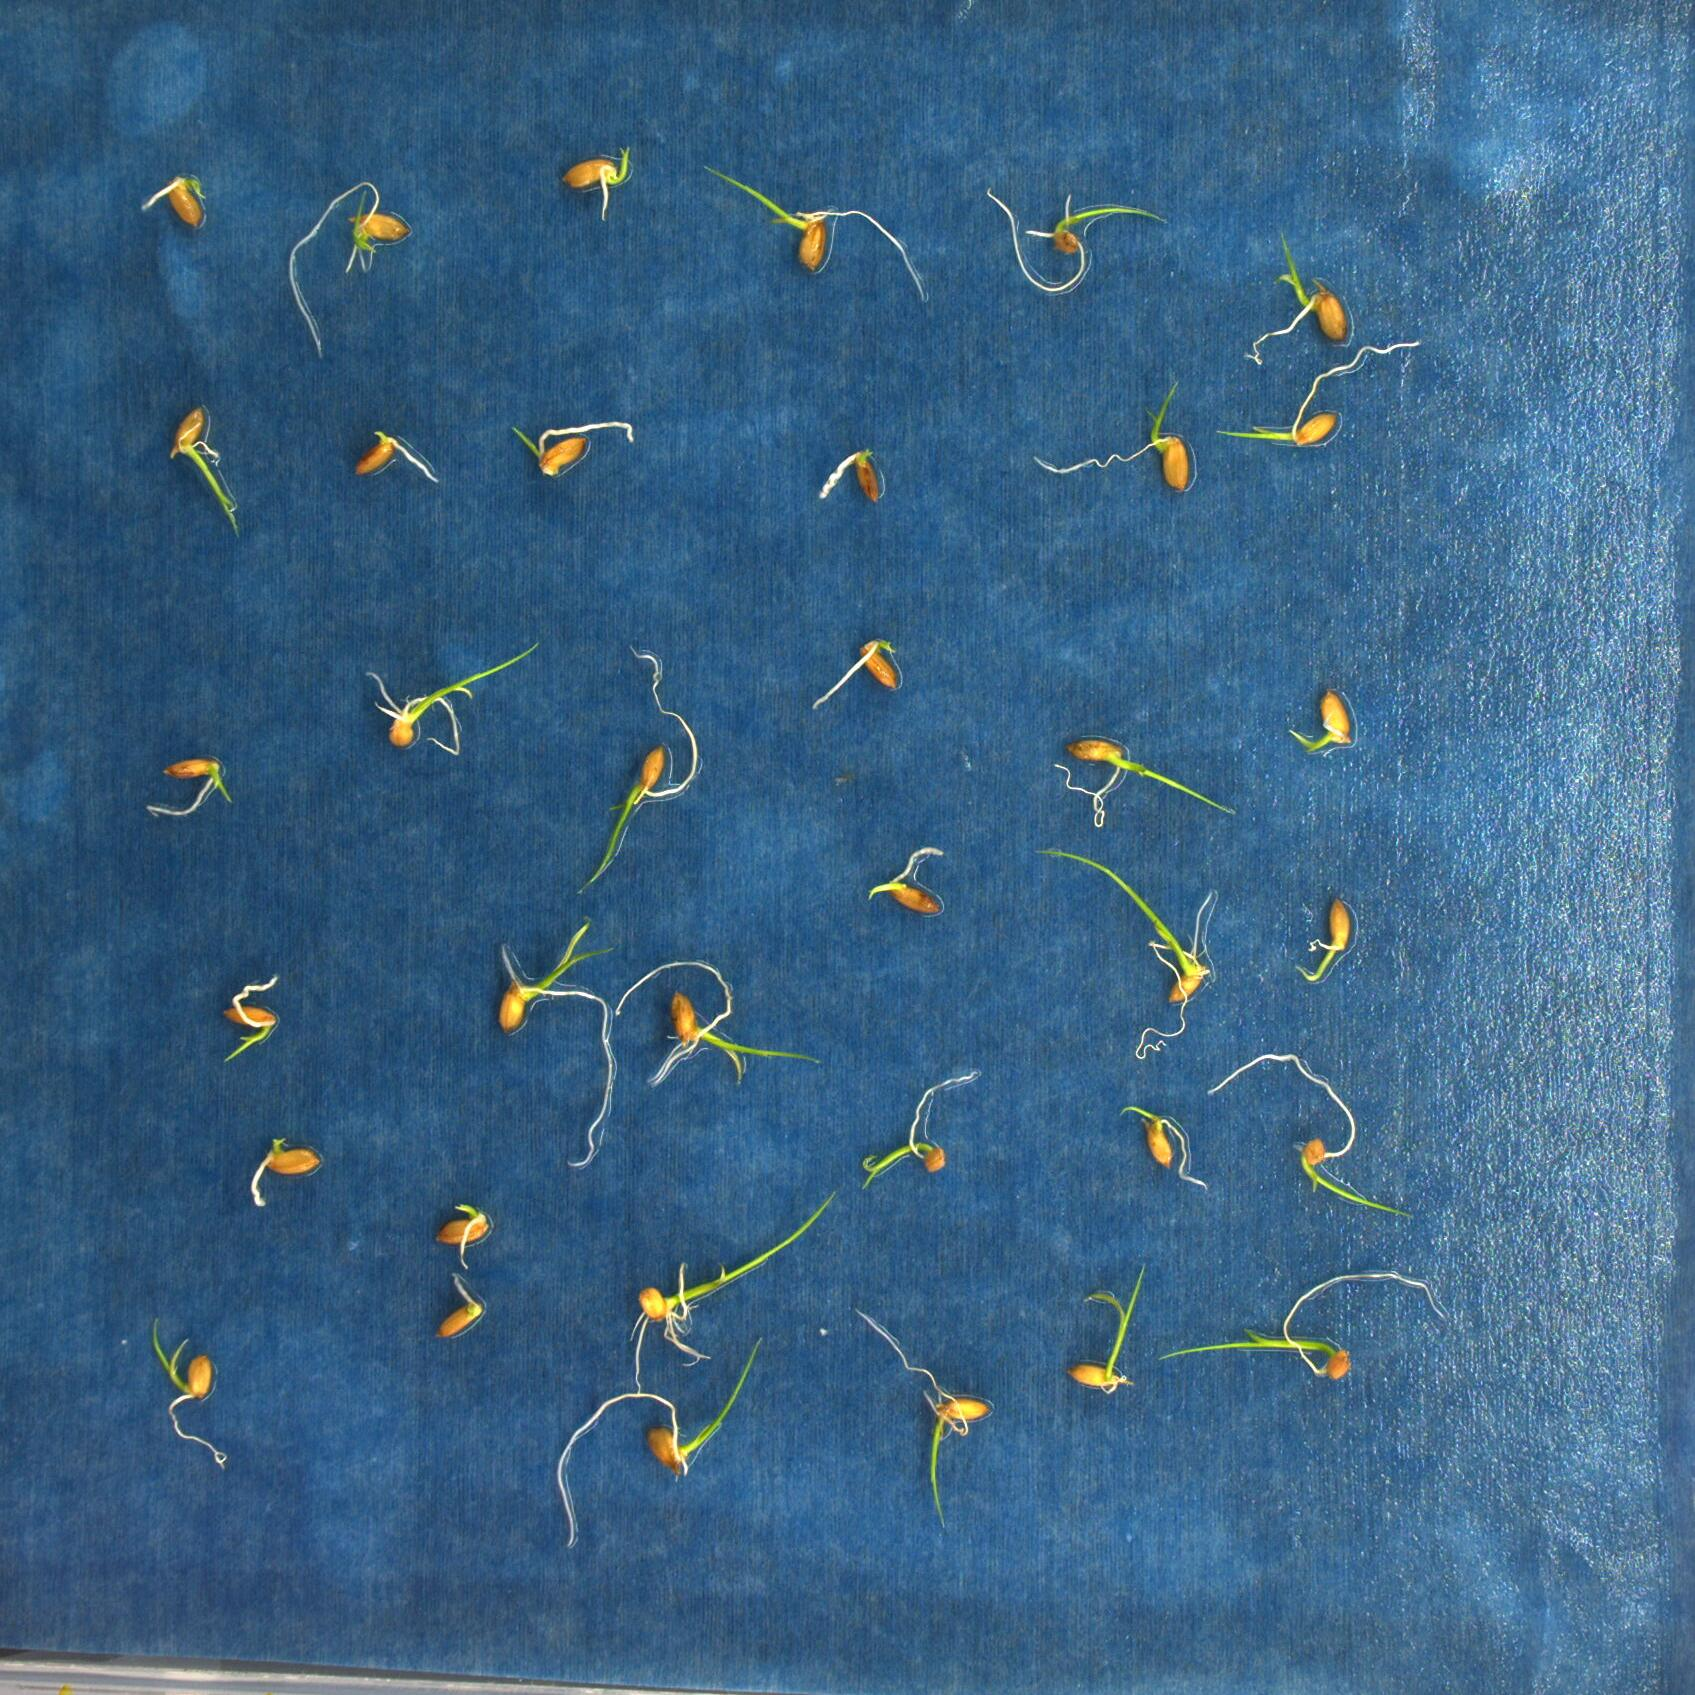not sprout: (812, 640, 899, 712), (251, 1135, 321, 1208), (352, 432, 441, 487), (820, 445, 882, 503), (435, 1273, 483, 1340)
sprout: (557, 1336, 765, 1546), (632, 1187, 837, 1395), (1035, 847, 1214, 1060), (1208, 1054, 1417, 1222), (1156, 1271, 1445, 1380), (703, 165, 927, 300), (855, 1310, 992, 1530), (577, 646, 698, 893), (497, 919, 613, 1167), (615, 958, 824, 1087), (1214, 338, 1420, 447), (289, 180, 411, 357), (365, 640, 540, 759), (986, 186, 1170, 293), (1034, 379, 1191, 492), (1052, 736, 1236, 830), (1246, 231, 1350, 368), (861, 1073, 981, 1191), (151, 1316, 228, 1471), (1065, 1257, 1146, 1394), (168, 405, 241, 537), (1119, 1105, 1211, 1192), (511, 418, 635, 477), (560, 143, 632, 224), (146, 754, 233, 816), (869, 847, 945, 917), (220, 972, 279, 1062), (1295, 897, 1350, 984), (1290, 688, 1354, 754), (435, 1203, 490, 1270), (143, 174, 205, 230)
